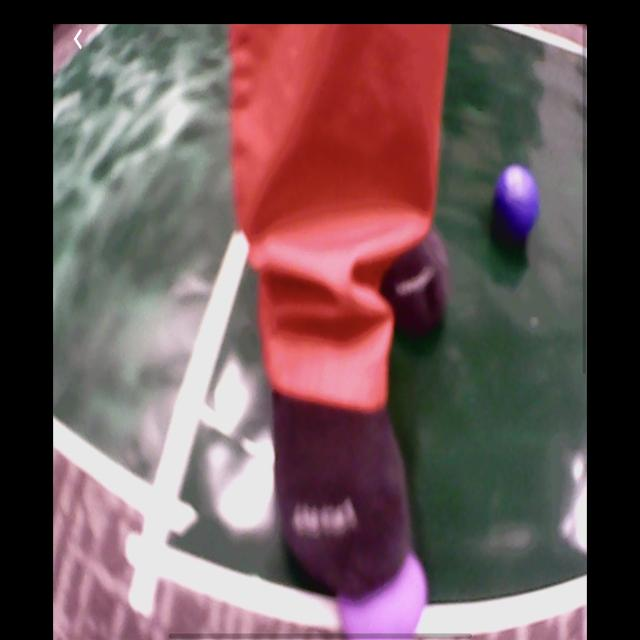ball: (339, 546, 428, 633), (492, 166, 540, 237)
